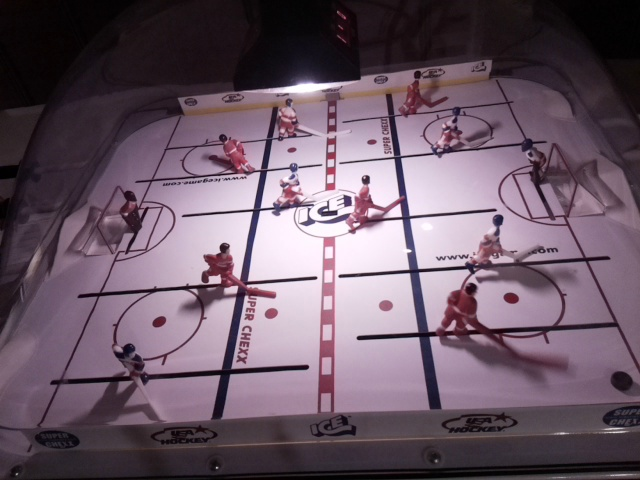puck: (611, 371, 633, 392)
